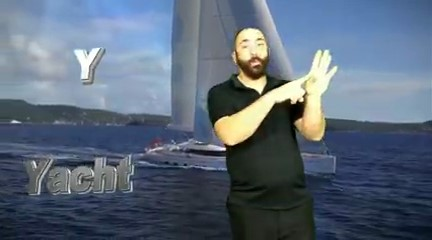Y: (272, 47, 340, 102)
